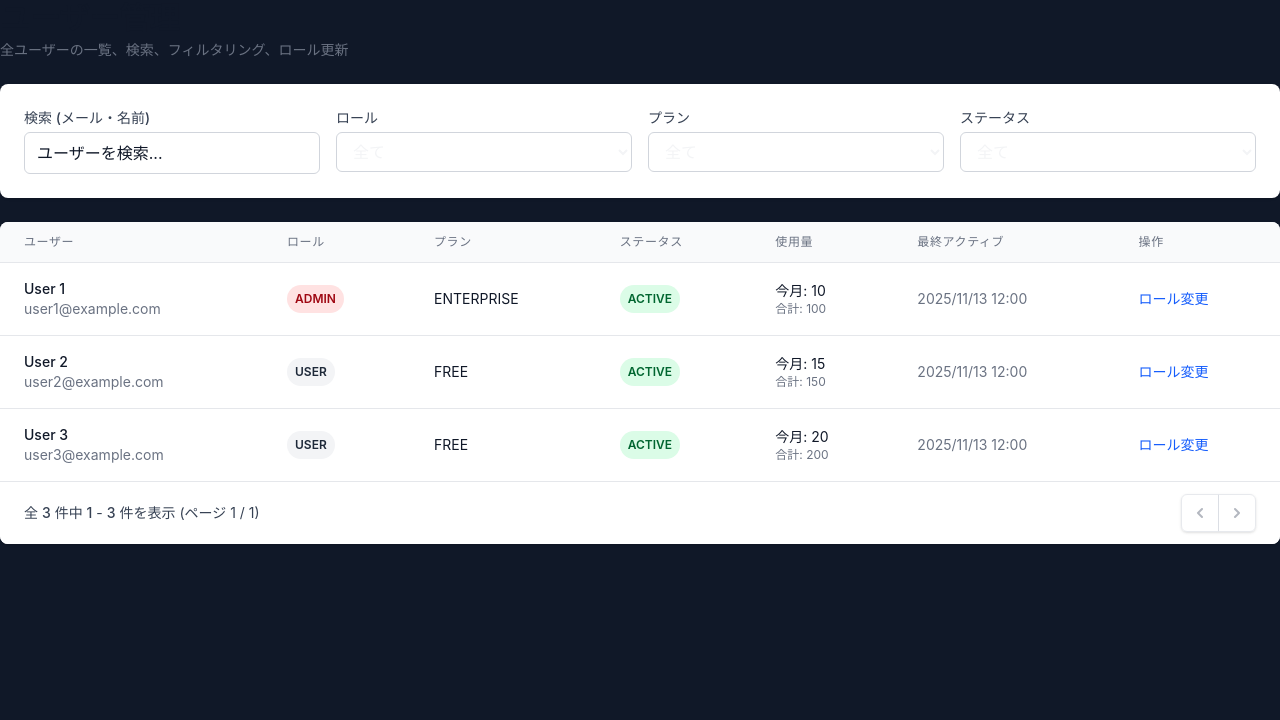
Test case: Admin Users Page › Update Role Modal › should close modal on cancel
Check: the text "user1@example.com" is shown, box [24,300,161,317]
Step 1. Click the button "ロール変更" in the row of "User 1" → (1174, 299), box [1139,289,1209,309]
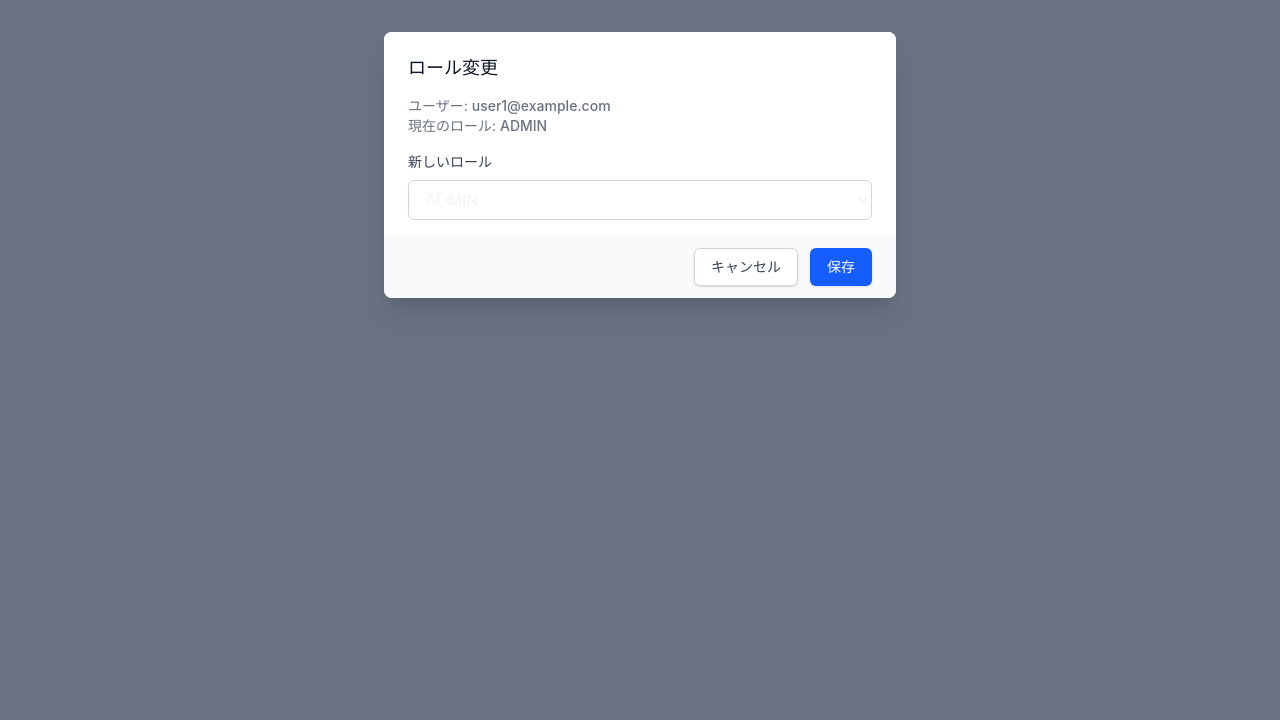
Check: the text "新しいロール" is shown, box [408,153,492,170]
Step 2. Click the button "キャンセル" → (746, 267), box [694,248,798,286]
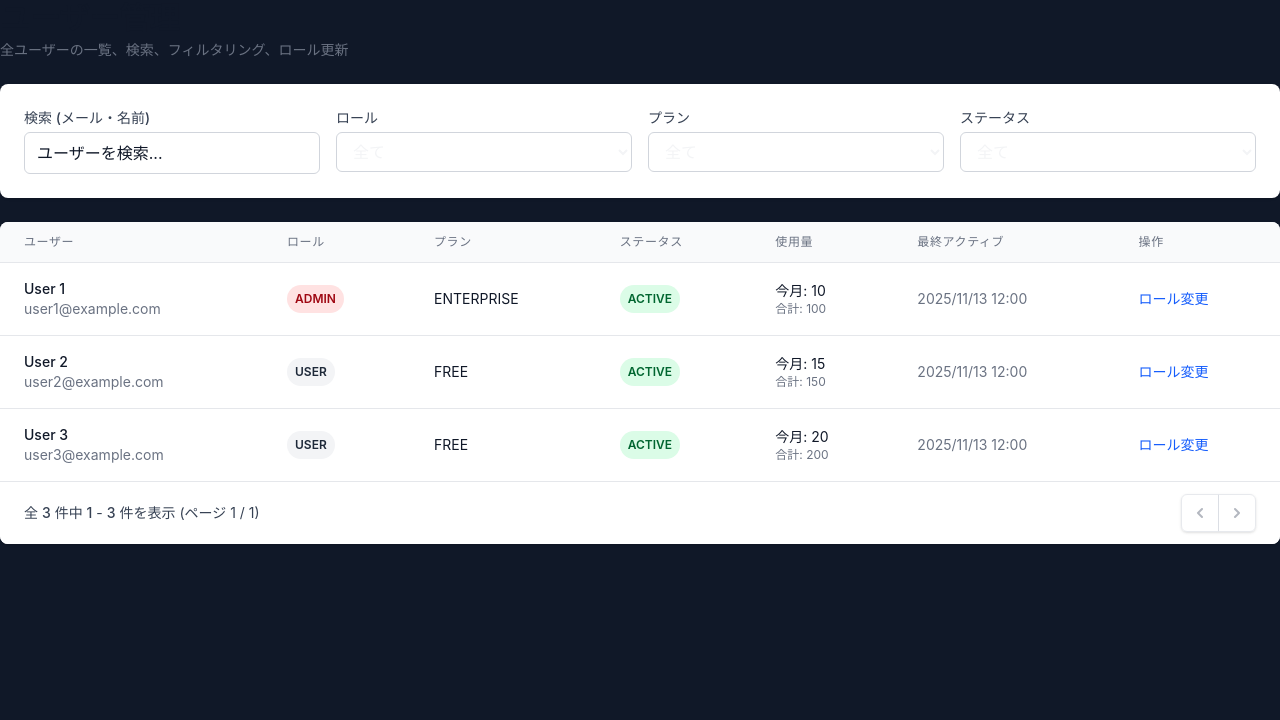
Check: the text "新しいロール" is gone
